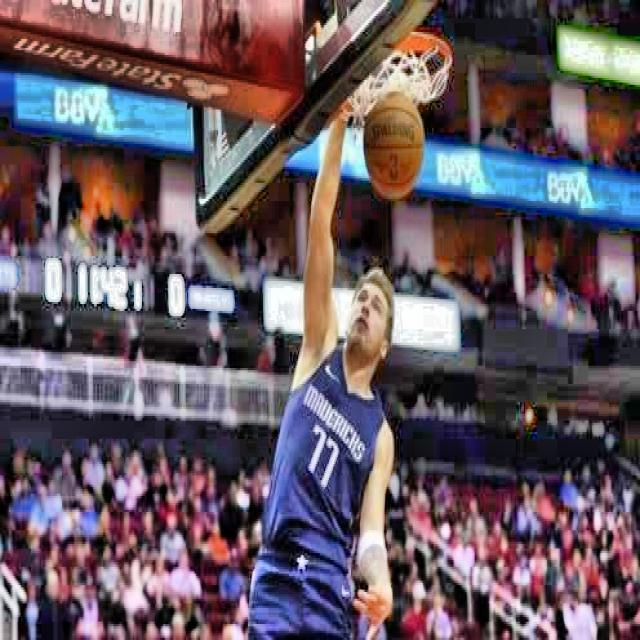board: (364, 94, 424, 201)
